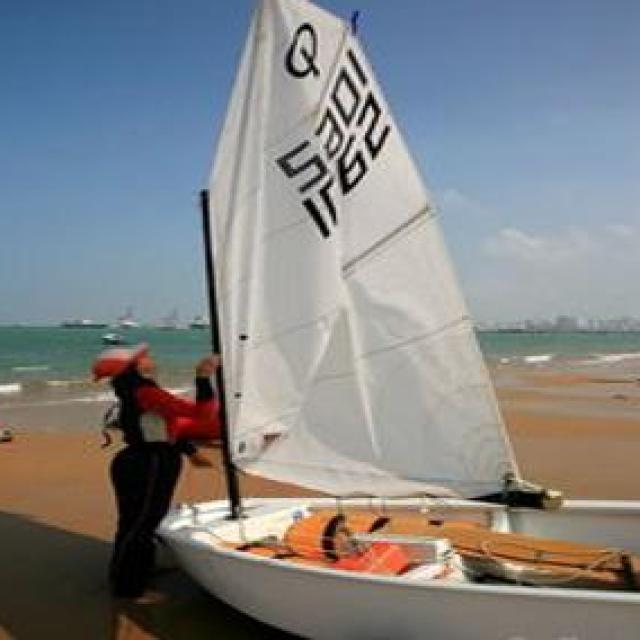sailboat: (146, 0, 640, 640)
